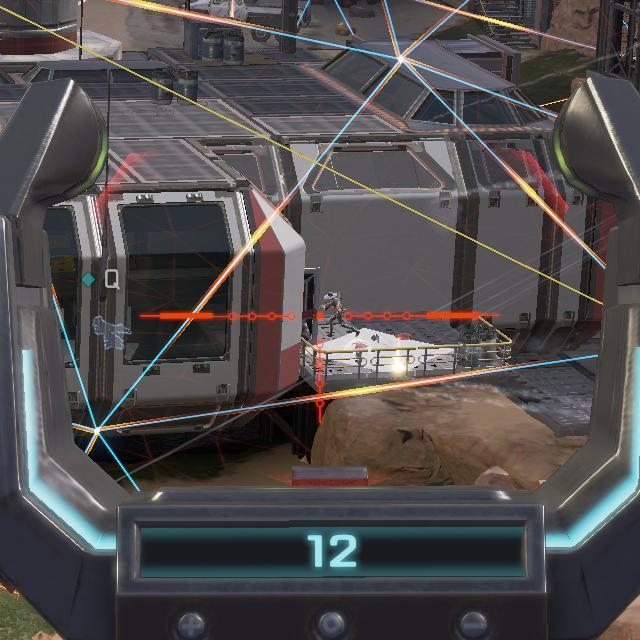avatar: (321, 290, 345, 339)
